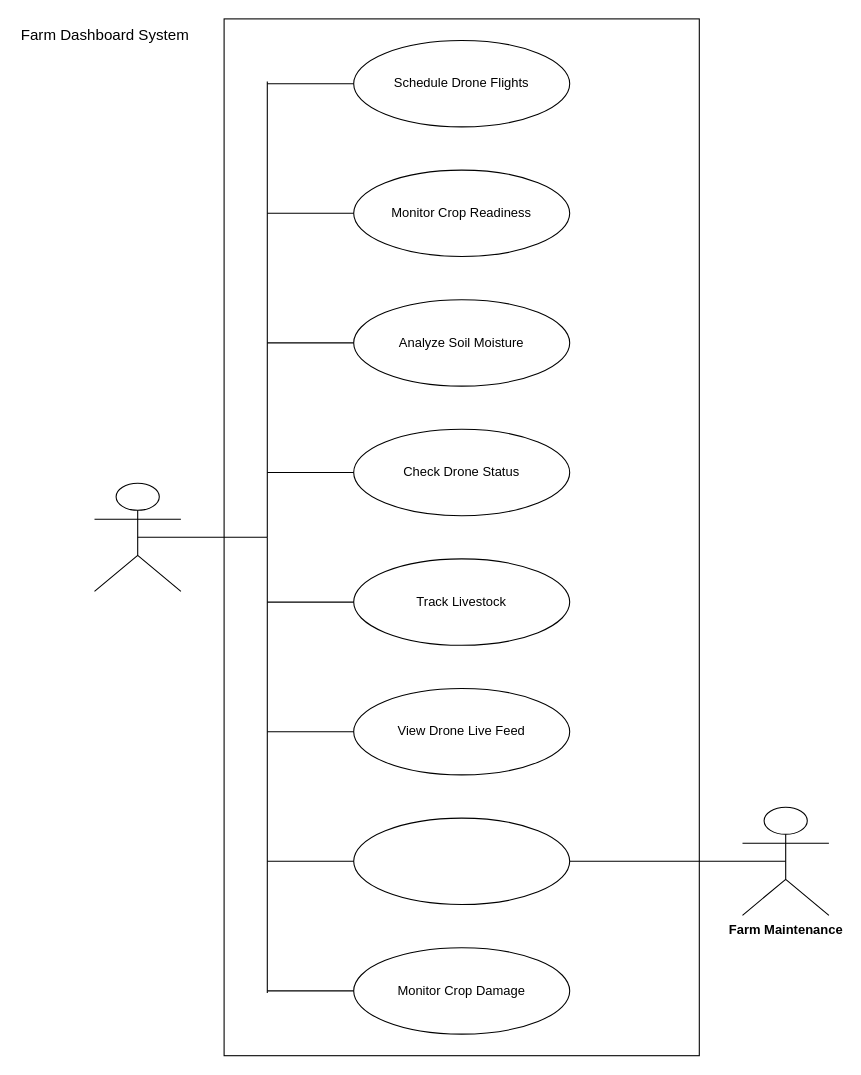
Some shapes in this 861 by 1075 pixel diagram are drawn without their labels. Each missing label, with the box of its shape:
Farm Manager: (93, 482, 181, 591)
Manage Drone Alerts: (353, 817, 570, 905)
